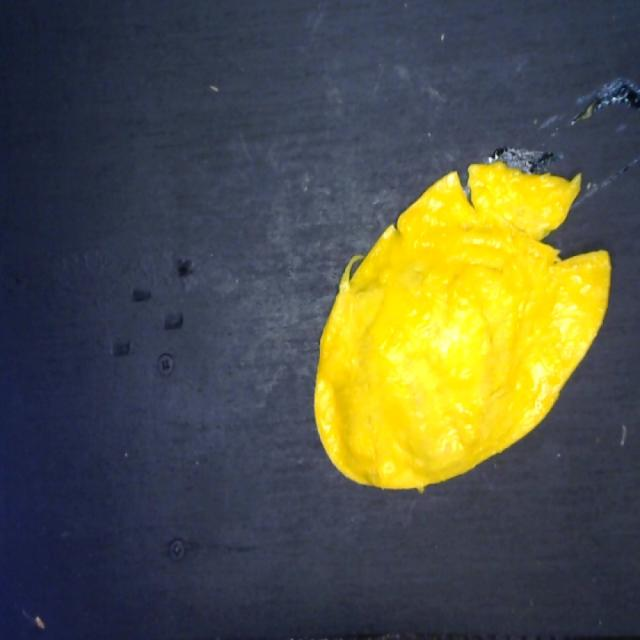biodegradable: (308, 150, 612, 490)
